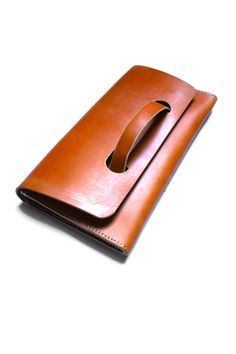cuero: (16, 65, 217, 256)
